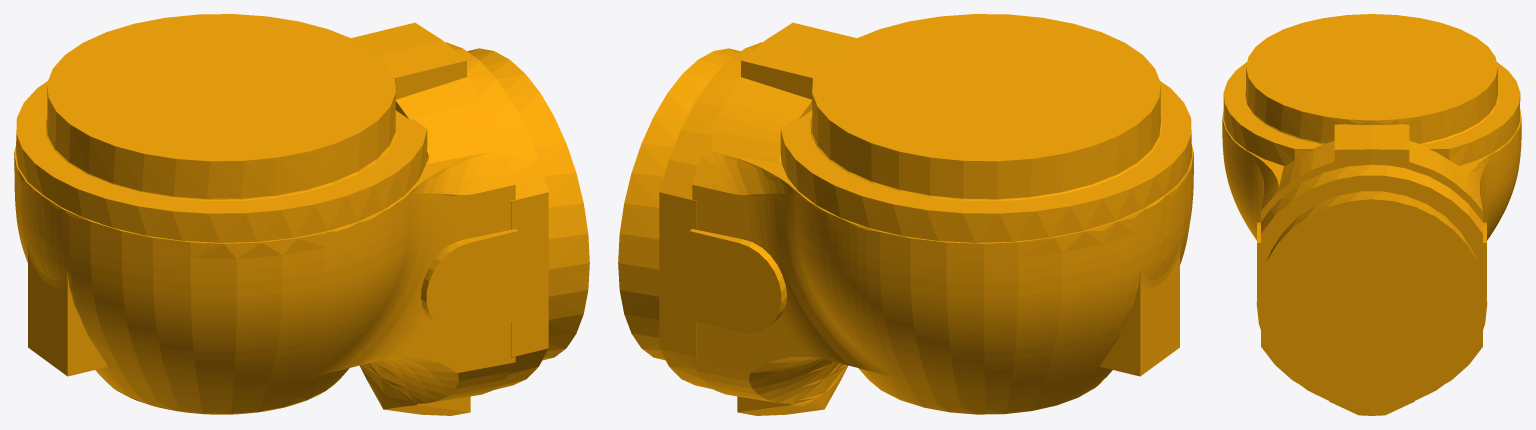
3 renders of one model, left to right at view 1: azimuth 30°, elevation 25°; view 2: azimuth 150°, elevation 25°; view 3: azimuth 270°, elevation 25°, orthographic. The views are drawn at different scales.
Visible parts, largest first — view 1: /node0/Part__Feature_004-mesh/0; view 2: /node0/Part__Feature_004-mesh/0; view 3: /node0/Part__Feature_004-mesh/0.
Boxes of the visible parts, x1,y1,x2,y2 form: /node0/Part__Feature_004-mesh/0: [14, 14, 589, 415]; /node0/Part__Feature_004-mesh/0: [618, 14, 1193, 415]; /node0/Part__Feature_004-mesh/0: [1222, 14, 1521, 415].
Bounding box in the file's own units: 0.3125 × 0.2398 × 0.24.
